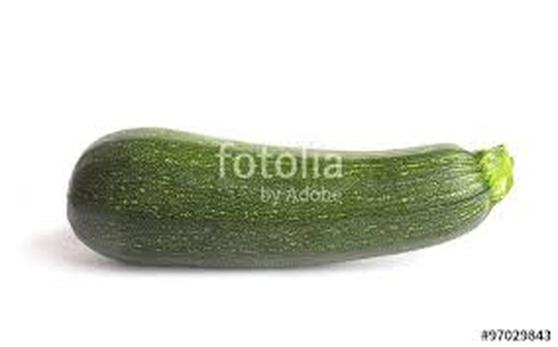zucchini: (65, 115, 518, 267)
